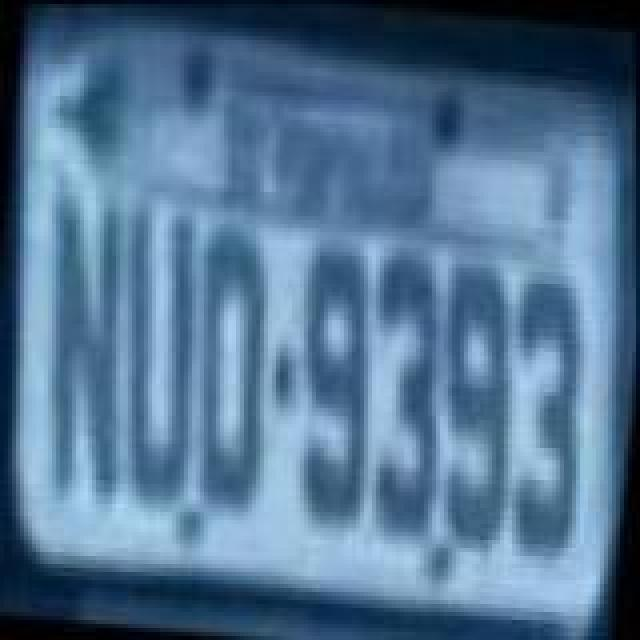3: (354, 252, 462, 540), (490, 276, 598, 556)
9: (418, 262, 534, 554), (280, 244, 392, 528)
D: (174, 232, 286, 528)
N: (22, 184, 150, 504)
U: (102, 202, 214, 506)
